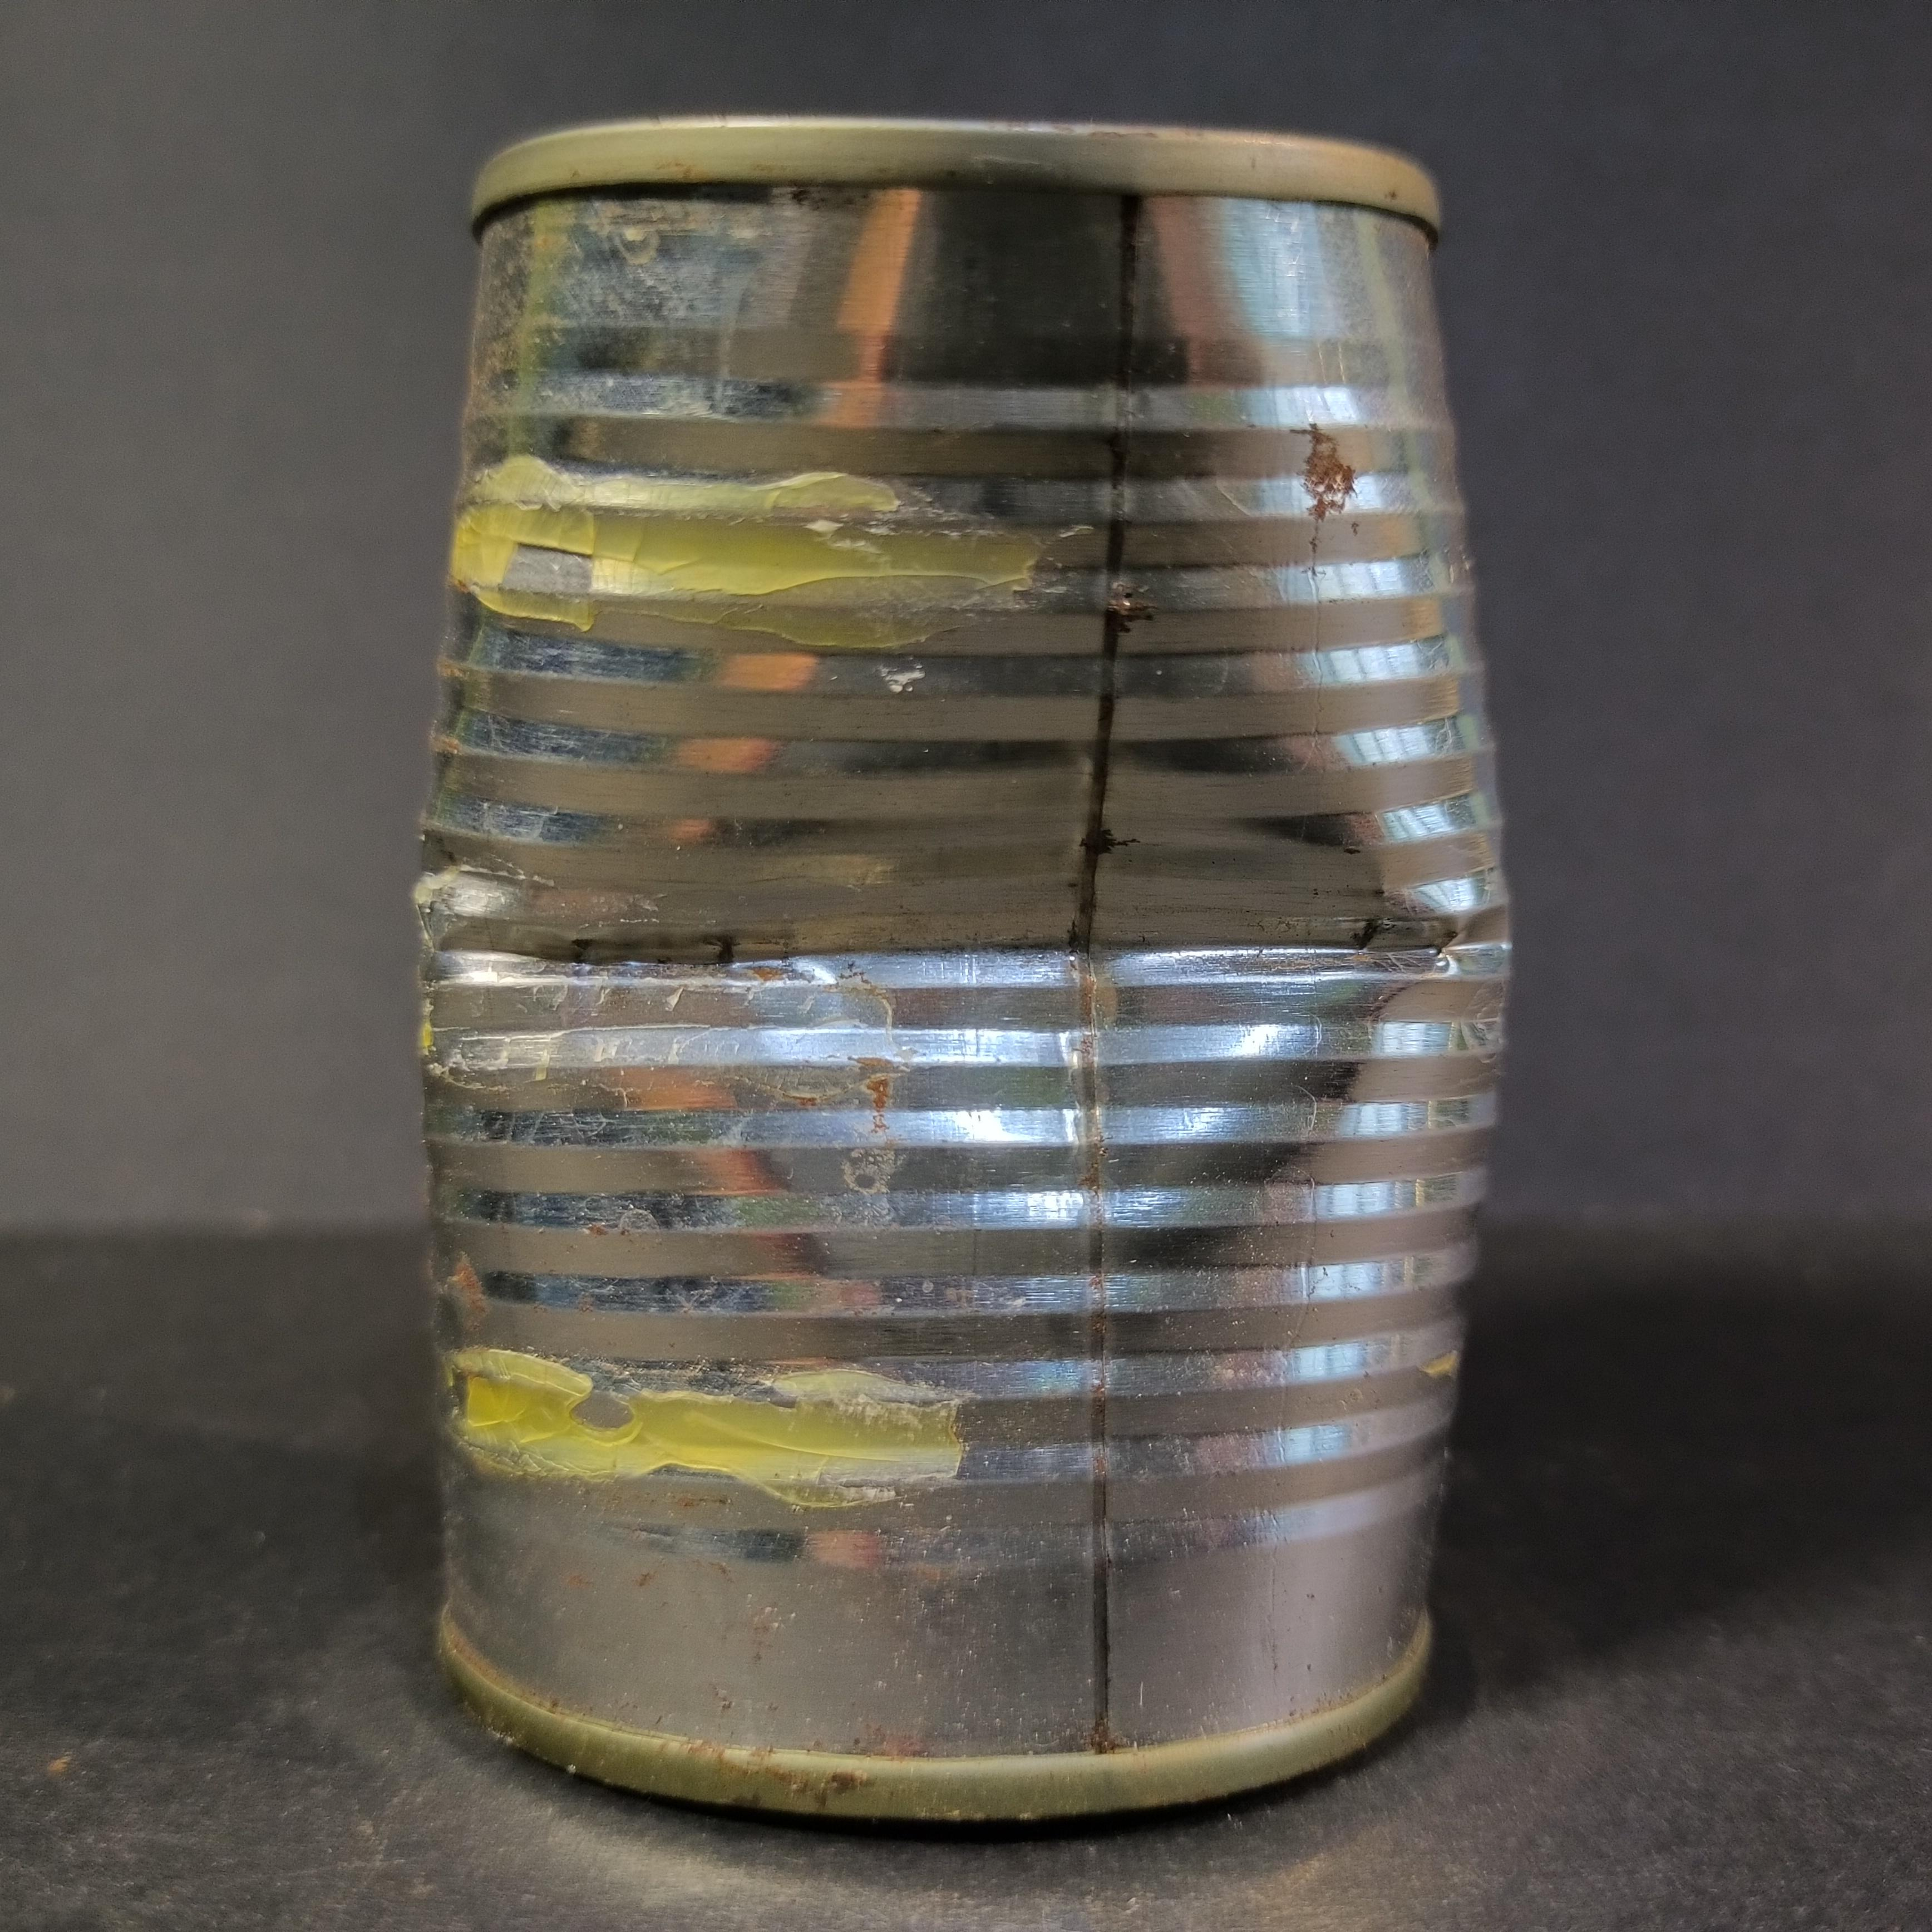Major Defect: (416, 114, 1514, 1822)
